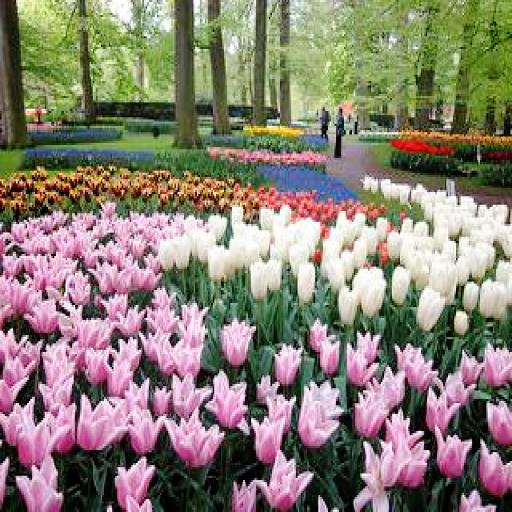tulip: (76, 395, 114, 454), (434, 424, 474, 478), (251, 414, 283, 465), (354, 390, 387, 438), (213, 388, 246, 431), (272, 344, 301, 386), (206, 245, 228, 284), (250, 256, 267, 303), (298, 260, 314, 305)
